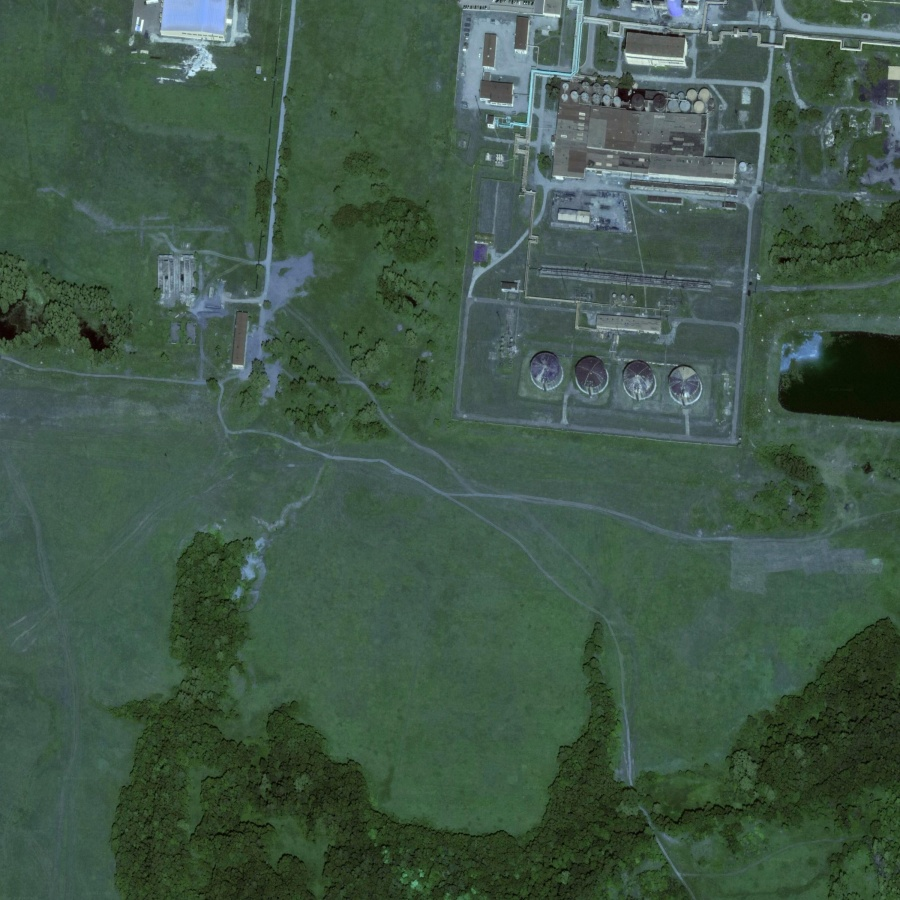PowerPlant: (523, 300, 734, 466)
